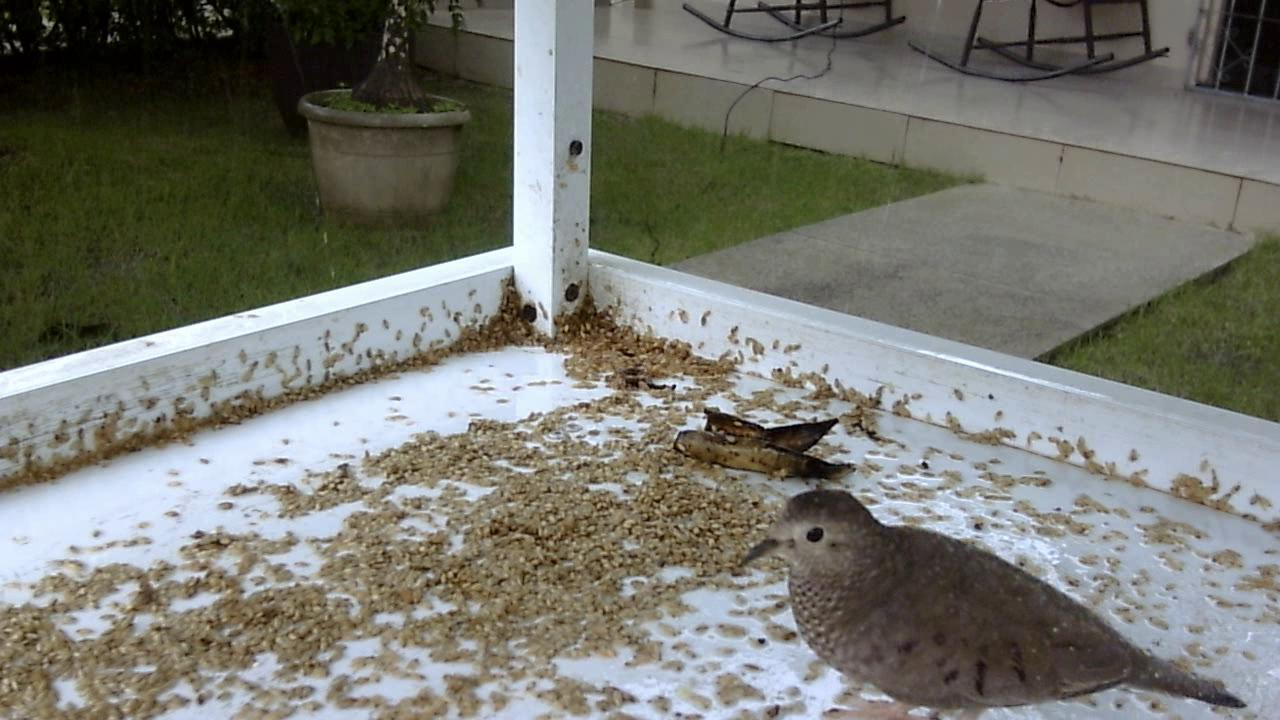rolinha: (718, 474, 1261, 715)
